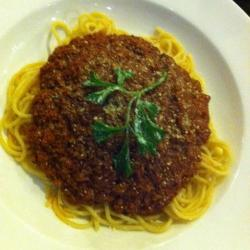bolonese_pasta: (10, 17, 226, 232)
